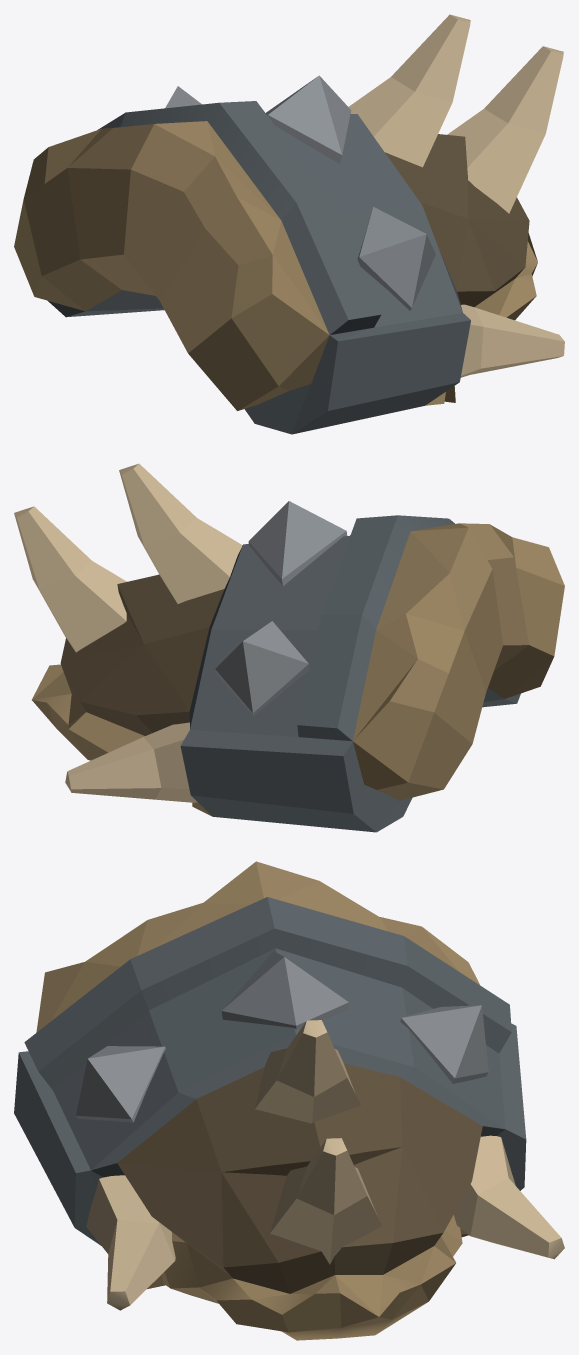
Rendered from Chr_ShoulderAttachLeft_06_Static.fbx.
The picture shows the model from 3 angles, top to bottom: view 1: azimuth 30°, elevation 25°; view 2: azimuth 150°, elevation 25°; view 3: azimuth 270°, elevation 25°; orthographic projection. The views are drawn at different scales.
Parts seen in each view (by area): view 1: Chr_ShoulderAttachLeft_06_Static; view 2: Chr_ShoulderAttachLeft_06_Static; view 3: Chr_ShoulderAttachLeft_06_Static.
Part boxes in pixels (bbox=[...]): Chr_ShoulderAttachLeft_06_Static: bbox=[14, 14, 564, 434]; Chr_ShoulderAttachLeft_06_Static: bbox=[14, 463, 564, 832]; Chr_ShoulderAttachLeft_06_Static: bbox=[14, 861, 564, 1340].
Size of the model in its own units: 0.3224 by 0.1856 by 0.2931.
